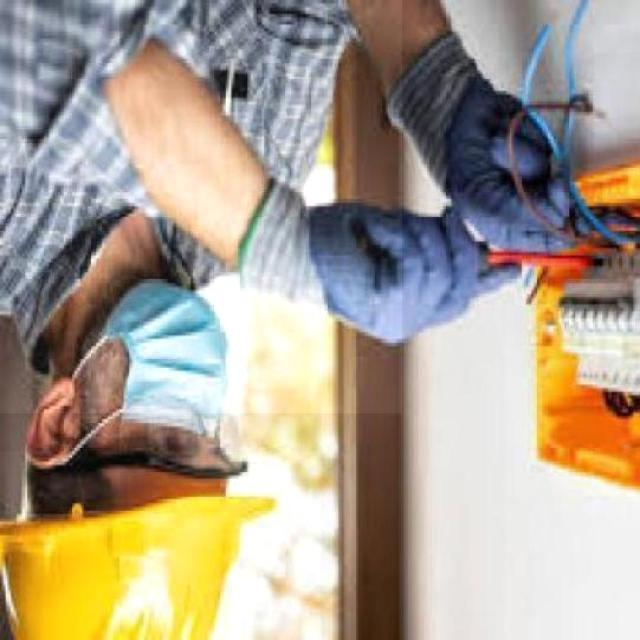Helmet: (0, 0, 402, 413), (0, 451, 320, 640)
